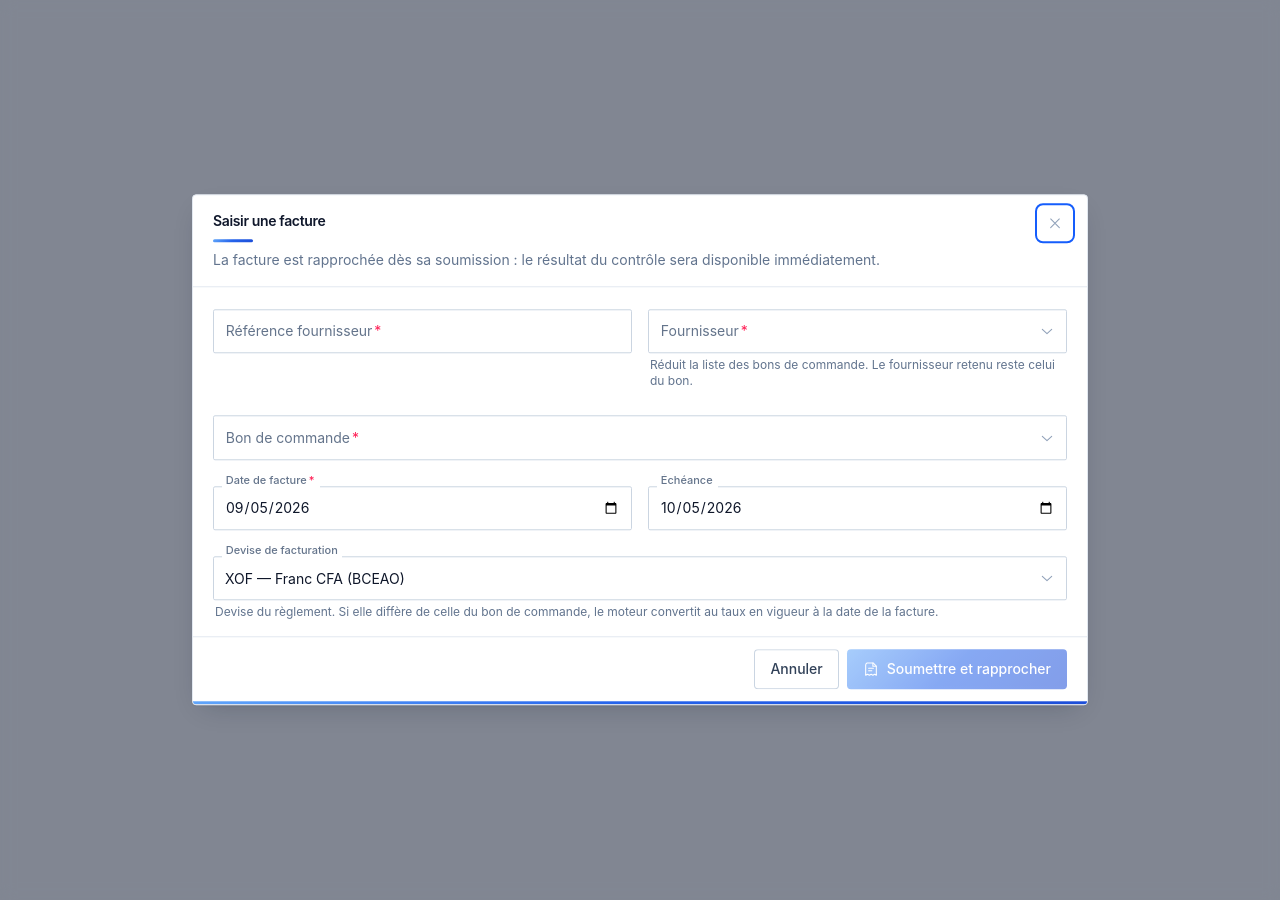
Scenario: InvoiceFormDialog › pré-remplit les lignes au bon de commande et calcule le total
Click the dropdown labelled "Bon de commande*" at (640, 438), box [213, 416, 1067, 460]
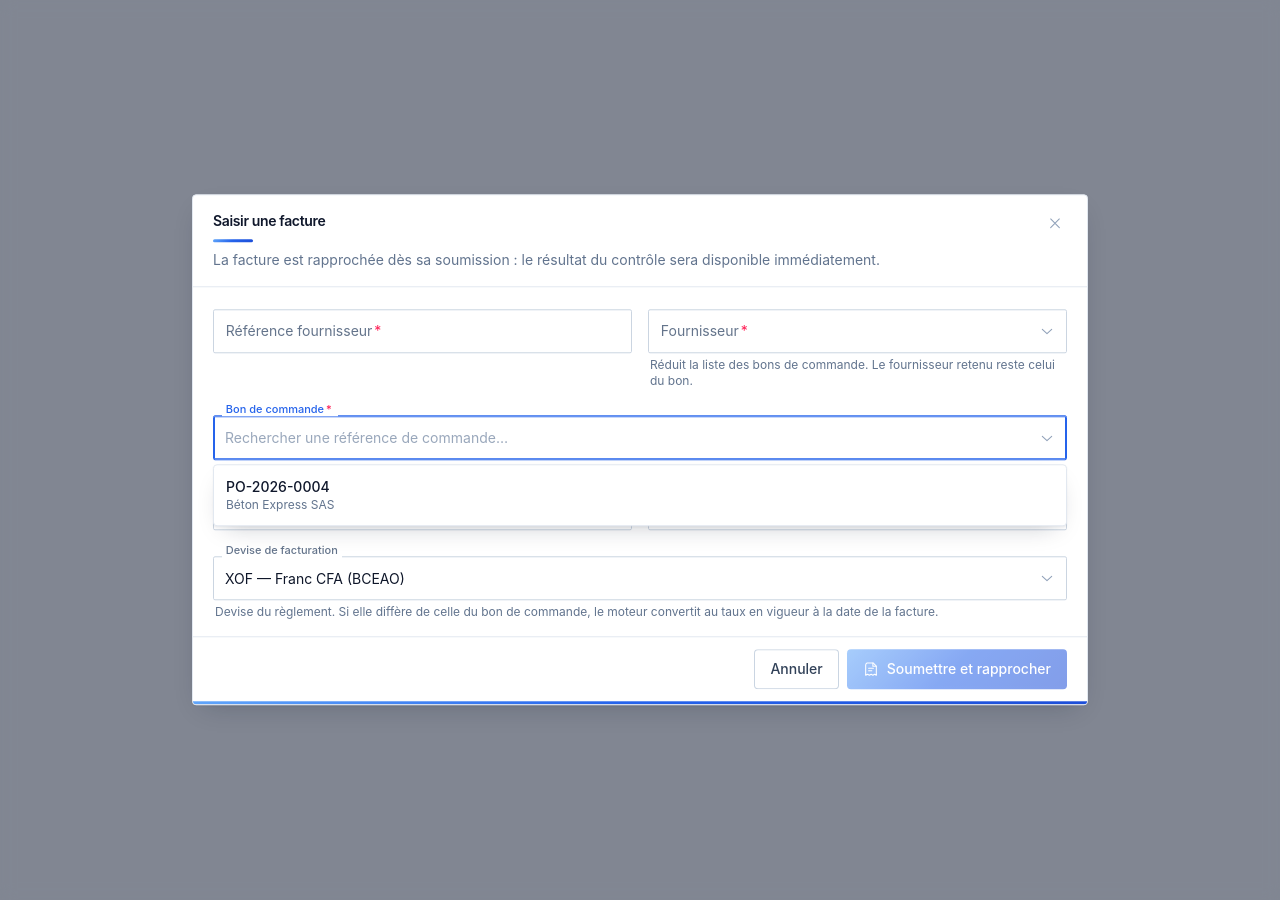
Click the option "PO-2026-0004 Béton Express SAS" at (278, 486), box [214, 469, 1066, 521]
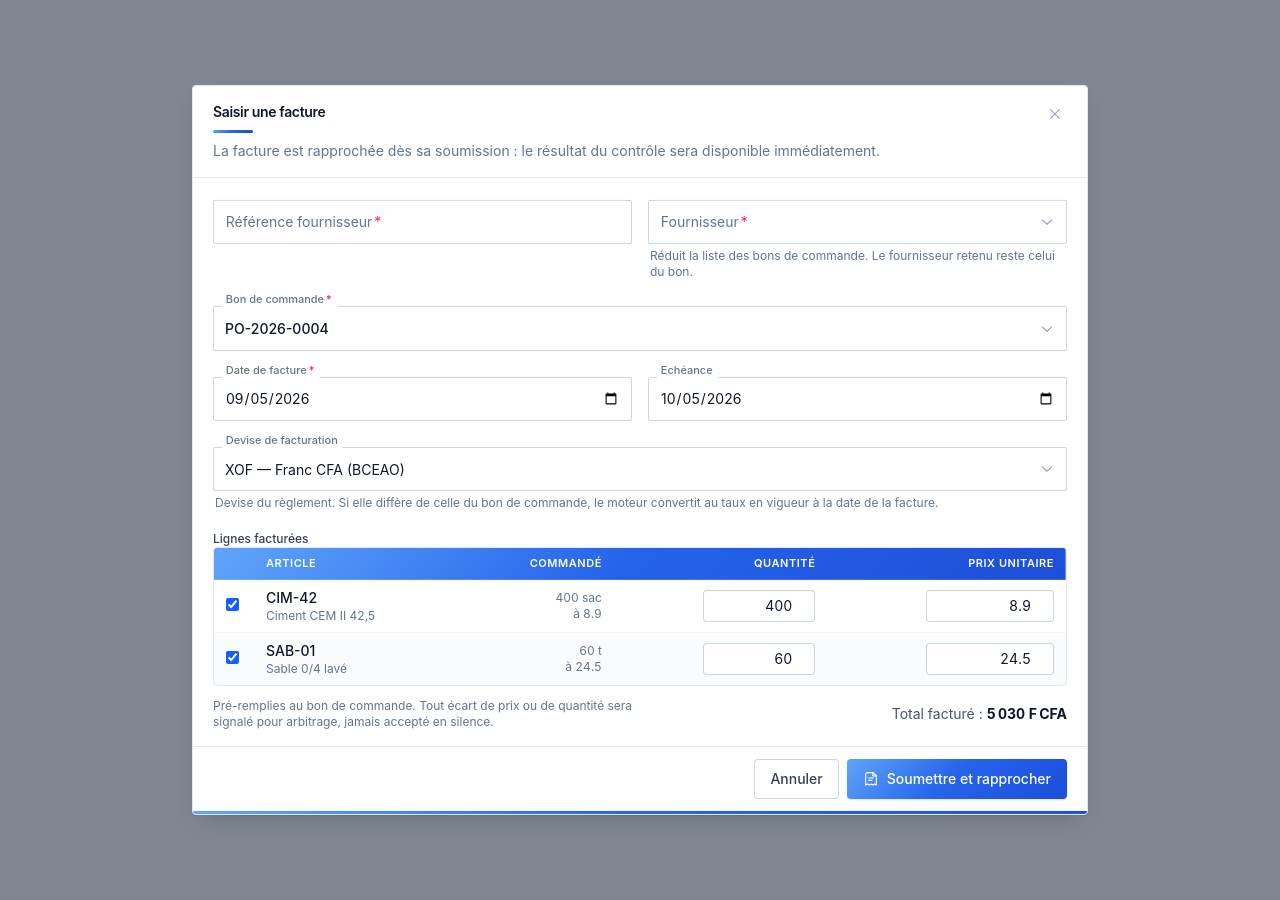
Check: the number field named "Quantité facturée pour CIM-42" holds "400", box [703, 590, 815, 622]
Check: the number field named "Prix unitaire facturé pour CIM-42" holds "8.9", box [926, 590, 1054, 622]
